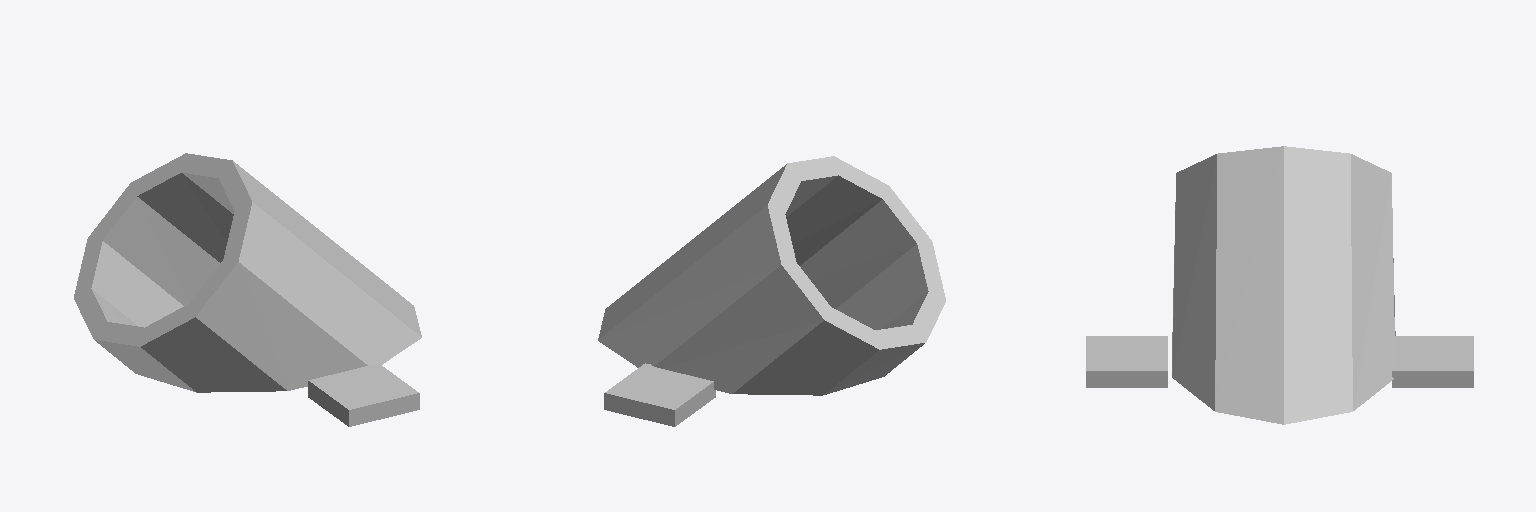
The model's file is MiniCannon.obj.
The picture shows the model from 3 angles: view 1: azimuth 30°, elevation 25°; view 2: azimuth 150°, elevation 25°; view 3: azimuth 270°, elevation 25°; orthographic projection.
Visible parts, largest first — view 1: pCube3; view 2: pCube3; view 3: pCube3.
Boxes of the visible parts, <box> form: pCube3: <box>74,153,421,426</box>; pCube3: <box>598,156,945,426</box>; pCube3: <box>1086,146,1473,424</box>.
Bounding box in the file's own units: 1.77 × 1.05 × 1.85.